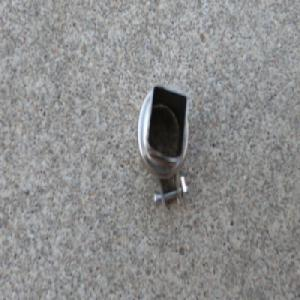MetalPart: (135, 85, 189, 219)
